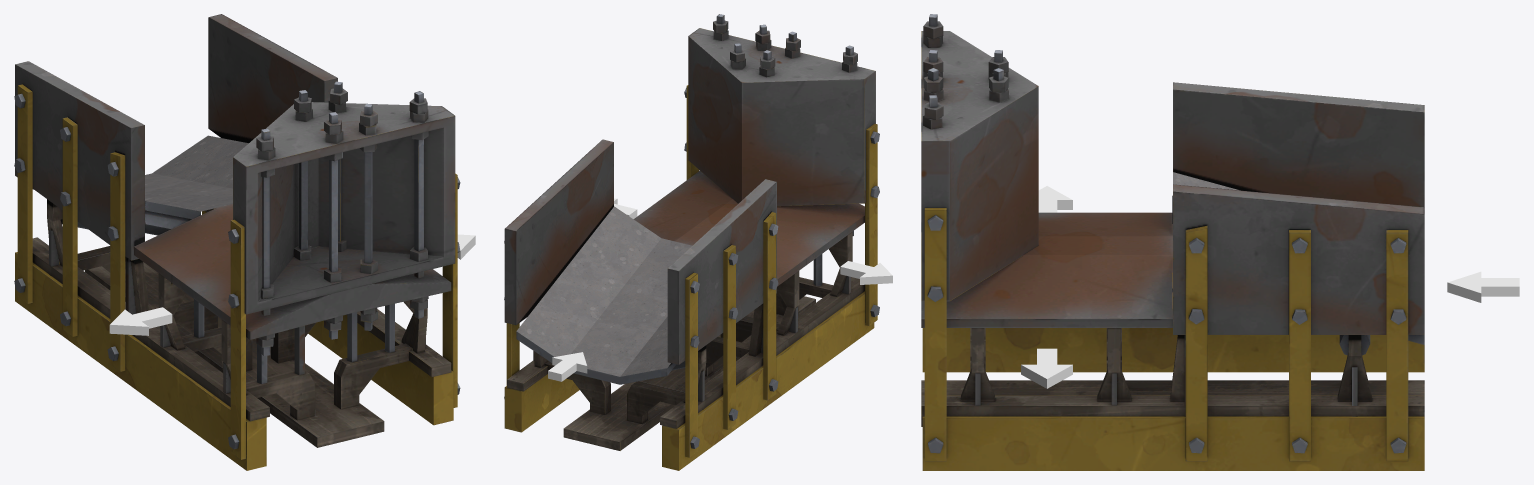
The model's file is OreOverflowSplitter.glb.
The picture shows the model from 3 angles, left to right: view 1: azimuth 30°, elevation 25°; view 2: azimuth 150°, elevation 25°; view 3: azimuth 270°, elevation 25°; orthographic projection. The views are drawn at different scales.
Parts seen in each view (by area): view 1: OreOverflowSplitter, ghostarrow; view 2: OreOverflowSplitter, ghostarrow, ghostarrow (2); view 3: OreOverflowSplitter, ghostarrow (2), ghostarrow (1), ghostarrow.
Part boxes in pixels (box(x1,y1,x2,y2)): OreOverflowSplitter: box(14, 14, 460, 470); ghostarrow: box(109, 307, 172, 335); OreOverflowSplitter: box(504, 14, 879, 470); ghostarrow: box(840, 261, 892, 284); ghostarrow (2): box(548, 352, 587, 381); OreOverflowSplitter: box(921, 14, 1424, 470); ghostarrow (2): box(1447, 271, 1519, 302); ghostarrow (1): box(1021, 348, 1072, 388); ghostarrow: box(1038, 186, 1072, 212).
Bounding box in the file's own units: 1.82 × 1.57 × 2.38.
4 materials, 2 textured.
